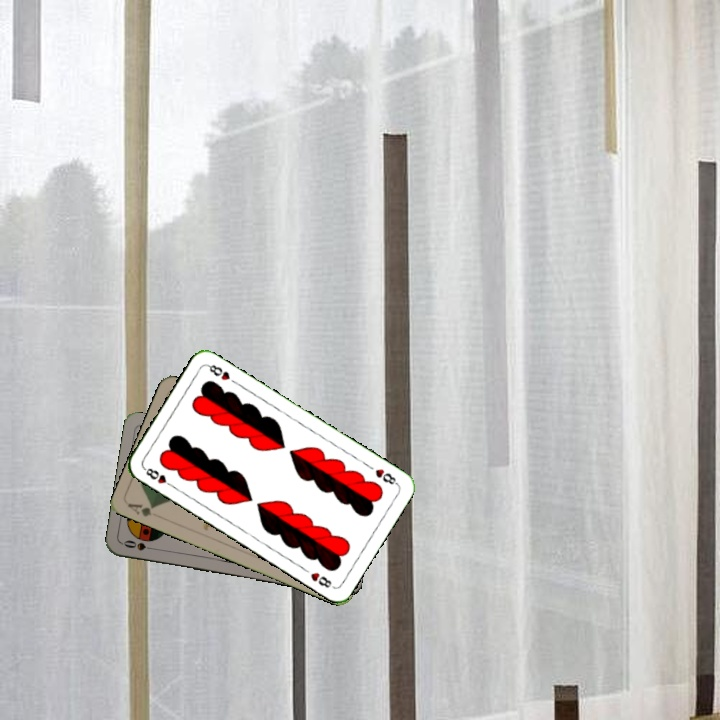GA: (124, 499, 157, 519)
H8: (140, 464, 177, 490), (371, 465, 400, 487)
SO: (120, 536, 160, 553)
